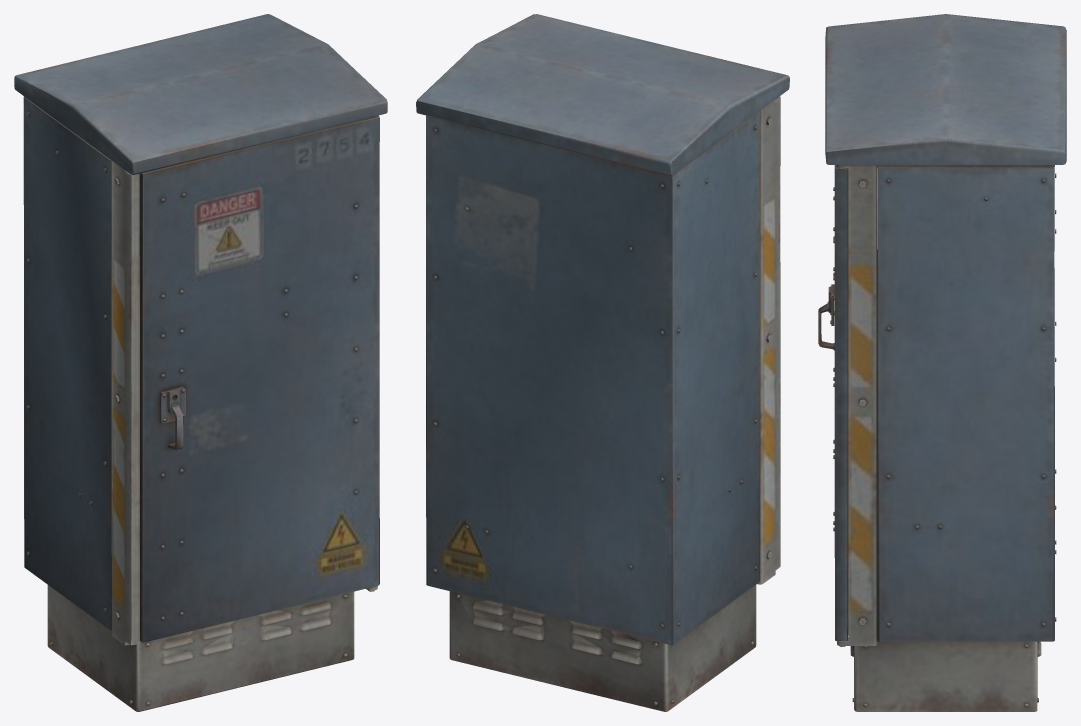
Rendered from utility_box_01.glb.
The picture shows the model from 3 angles, left to right: view 1: azimuth 30°, elevation 25°; view 2: azimuth 150°, elevation 25°; view 3: azimuth 270°, elevation 25°; orthographic projection.
Visible parts, largest first — view 1: utility_box_01_box; view 2: utility_box_01_box; view 3: utility_box_01_box.
Boxes of the visible parts, box(x1,y1,x2,y2) form: utility_box_01_box: box(14, 14, 387, 711); utility_box_01_box: box(416, 14, 789, 711); utility_box_01_box: box(818, 14, 1066, 711).
Bounding box in the file's own units: 0.52 × 1.12 × 0.432.
1 material, 1 textured.
